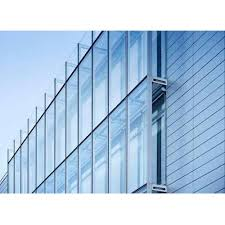glass panel: (128, 80, 147, 191), (109, 101, 125, 192), (93, 32, 107, 126), (109, 32, 125, 110), (128, 31, 146, 90), (152, 95, 164, 183), (79, 53, 91, 141), (93, 120, 107, 192), (66, 71, 77, 154), (55, 87, 64, 166), (79, 136, 91, 192), (46, 104, 53, 176), (37, 117, 44, 185), (66, 150, 77, 192), (151, 31, 161, 76), (29, 129, 35, 192), (21, 139, 27, 192), (55, 162, 64, 192), (15, 149, 20, 192), (8, 158, 13, 192), (45, 173, 53, 192), (37, 183, 44, 193), (93, 31, 100, 40)
